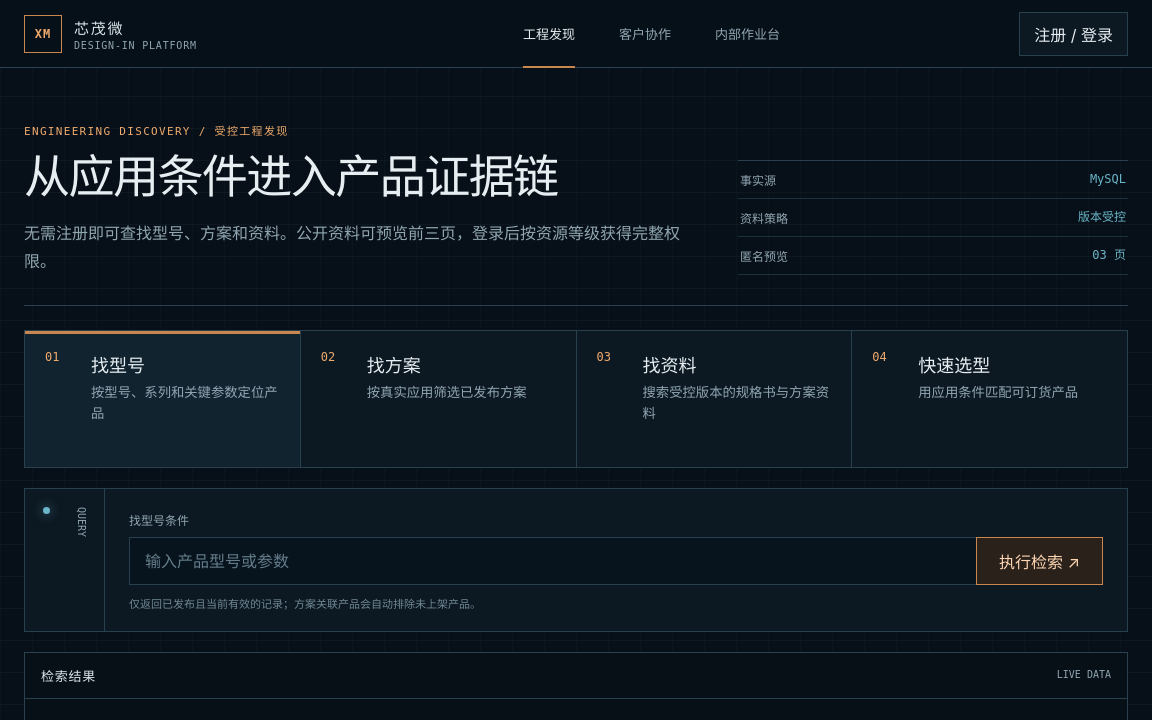
Test: App › 客户协作界面不向匿名用户泄露内容
Click the button "客户协作" at (645, 34), box x1=597 y1=0 x2=693 y2=67
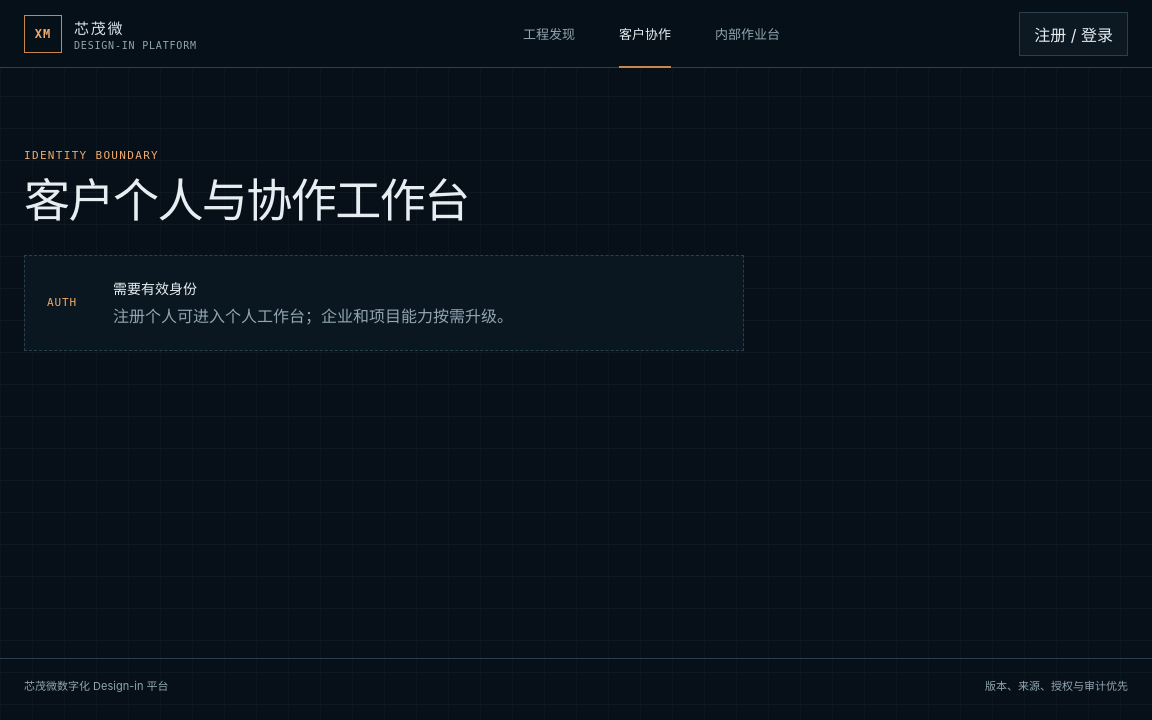
Check: the text "需要有效身份" is shown, box x1=113 y1=280 x2=197 y2=297
